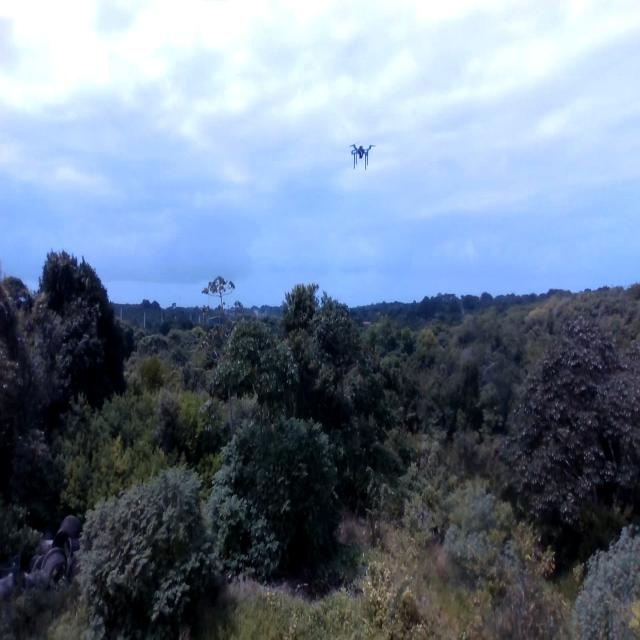-uav-: (346, 132, 376, 182)
